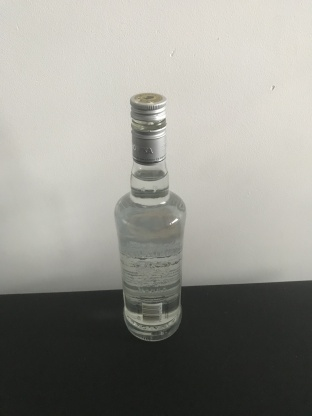nakretka: (129, 92, 167, 165)
